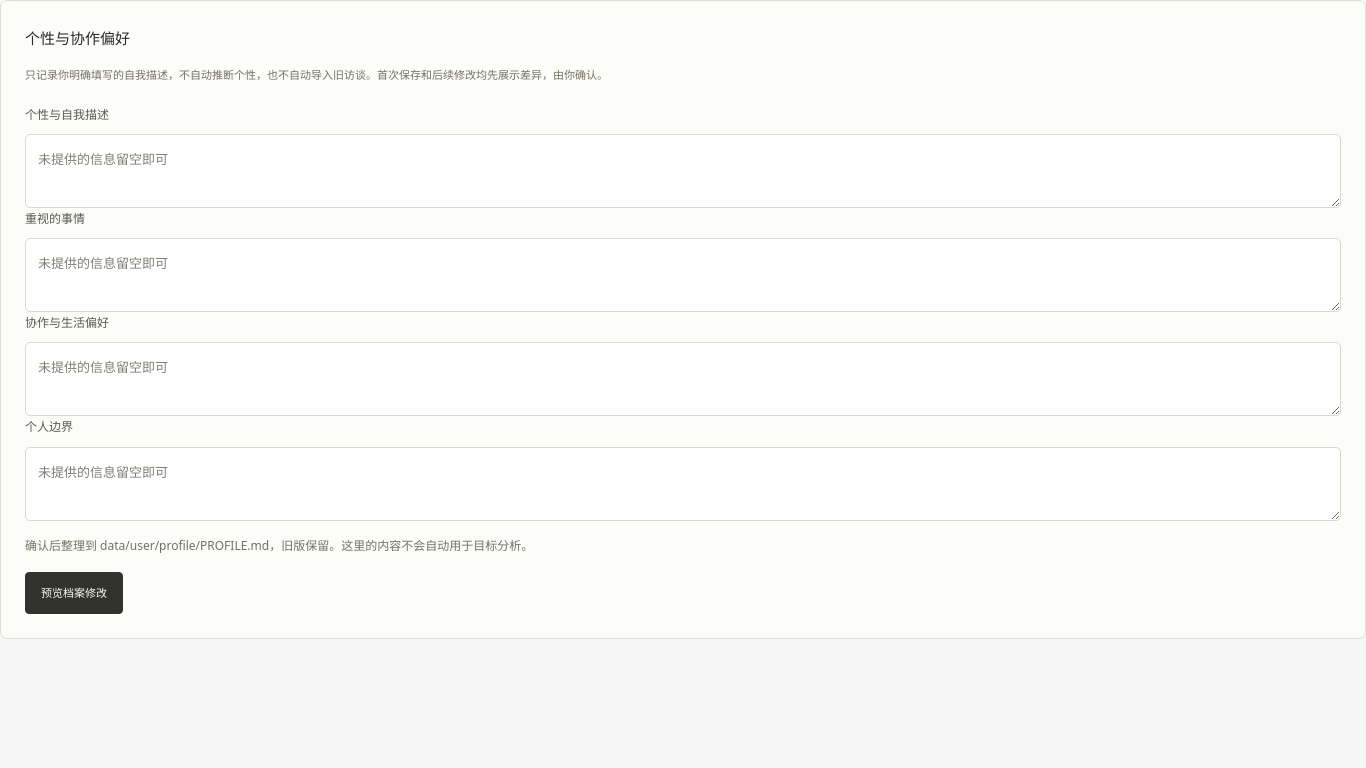
it: keeps a self-description pending until the user confirms its diff
Type "喜欢先了解整体" into the text box labelled "个性与自我描述" at point(683, 171), box left=25, top=134, right=1341, bottom=208
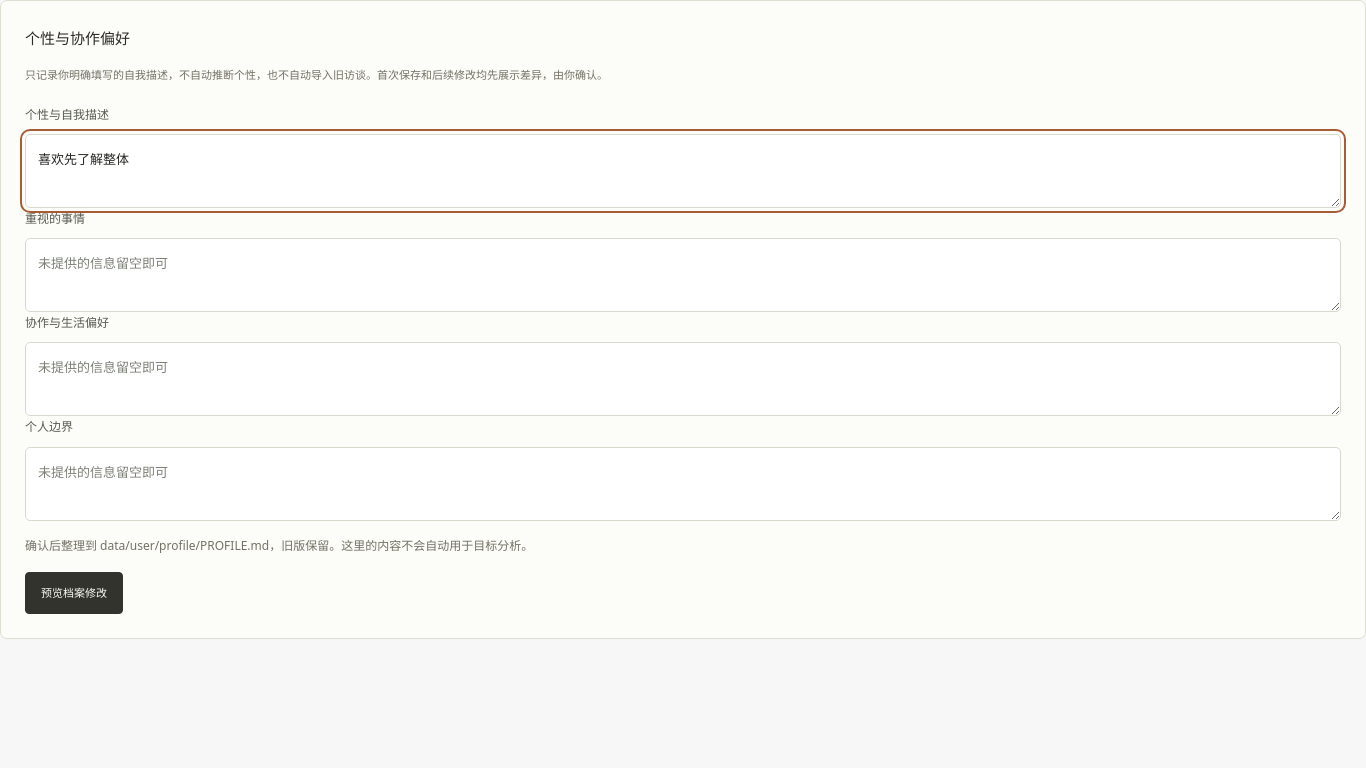
Click the button "预览档案修改" at point(74, 593), box left=25, top=572, right=123, bottom=614
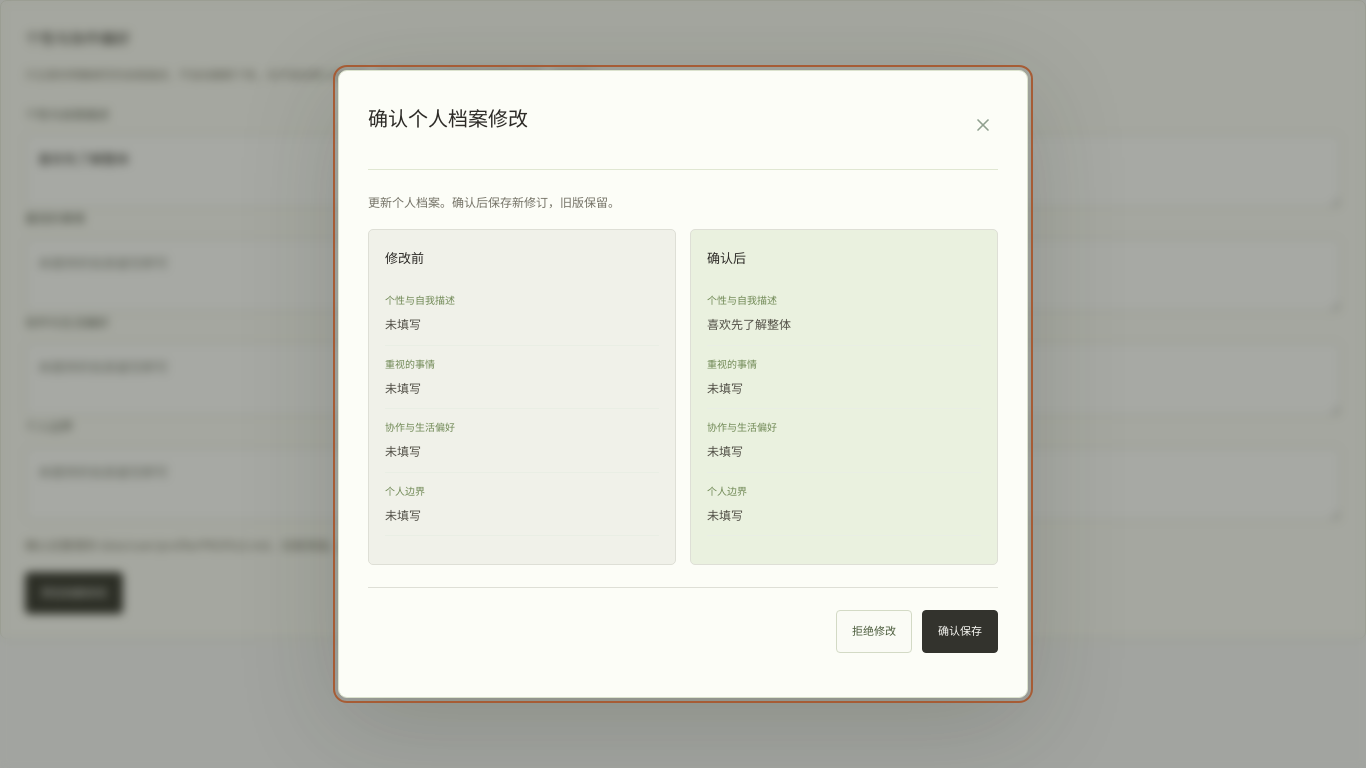
Now the text "喜欢先了解整体" is shown, box left=707, top=316, right=791, bottom=333
Click the button "确认保存" at point(960, 632), box left=922, top=610, right=998, bottom=653
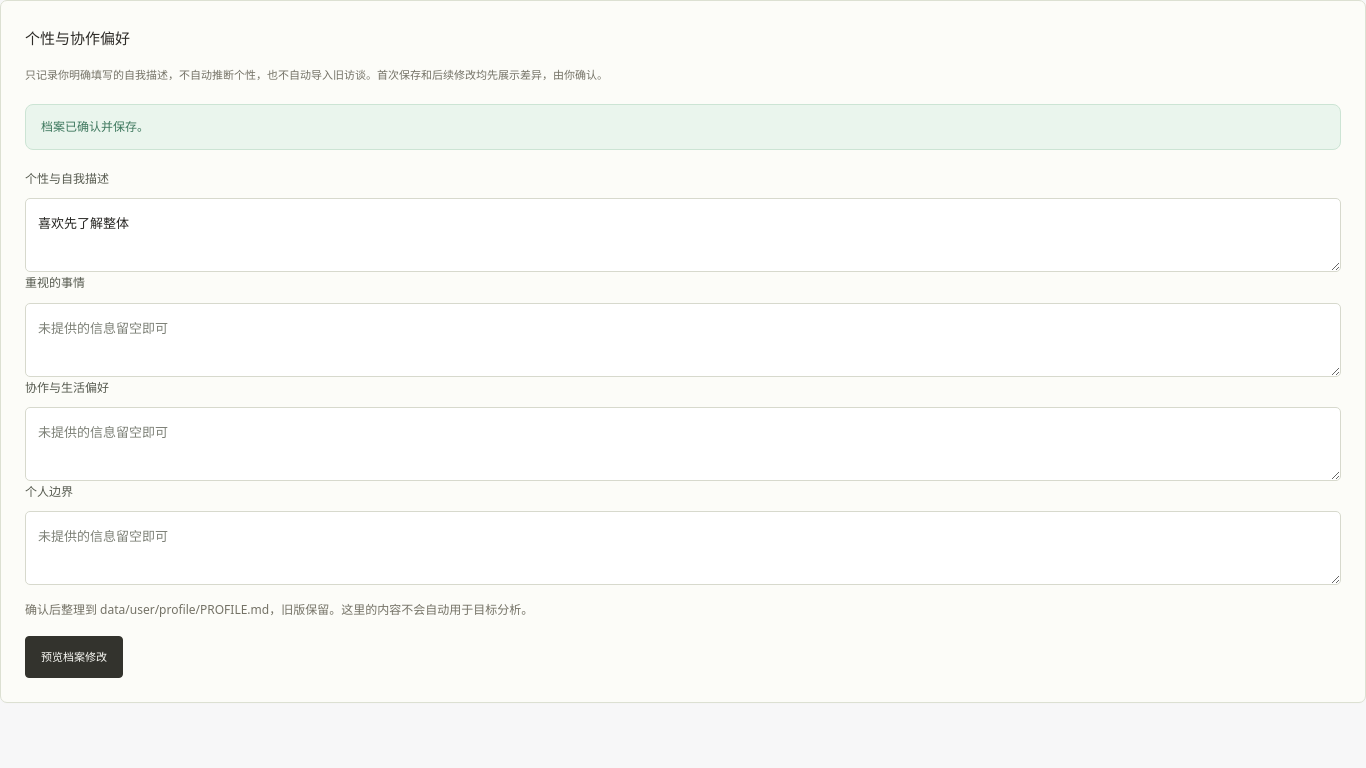
Now the dialog is gone
